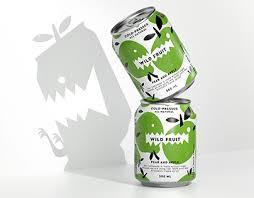glass: (111, 6, 196, 186)
